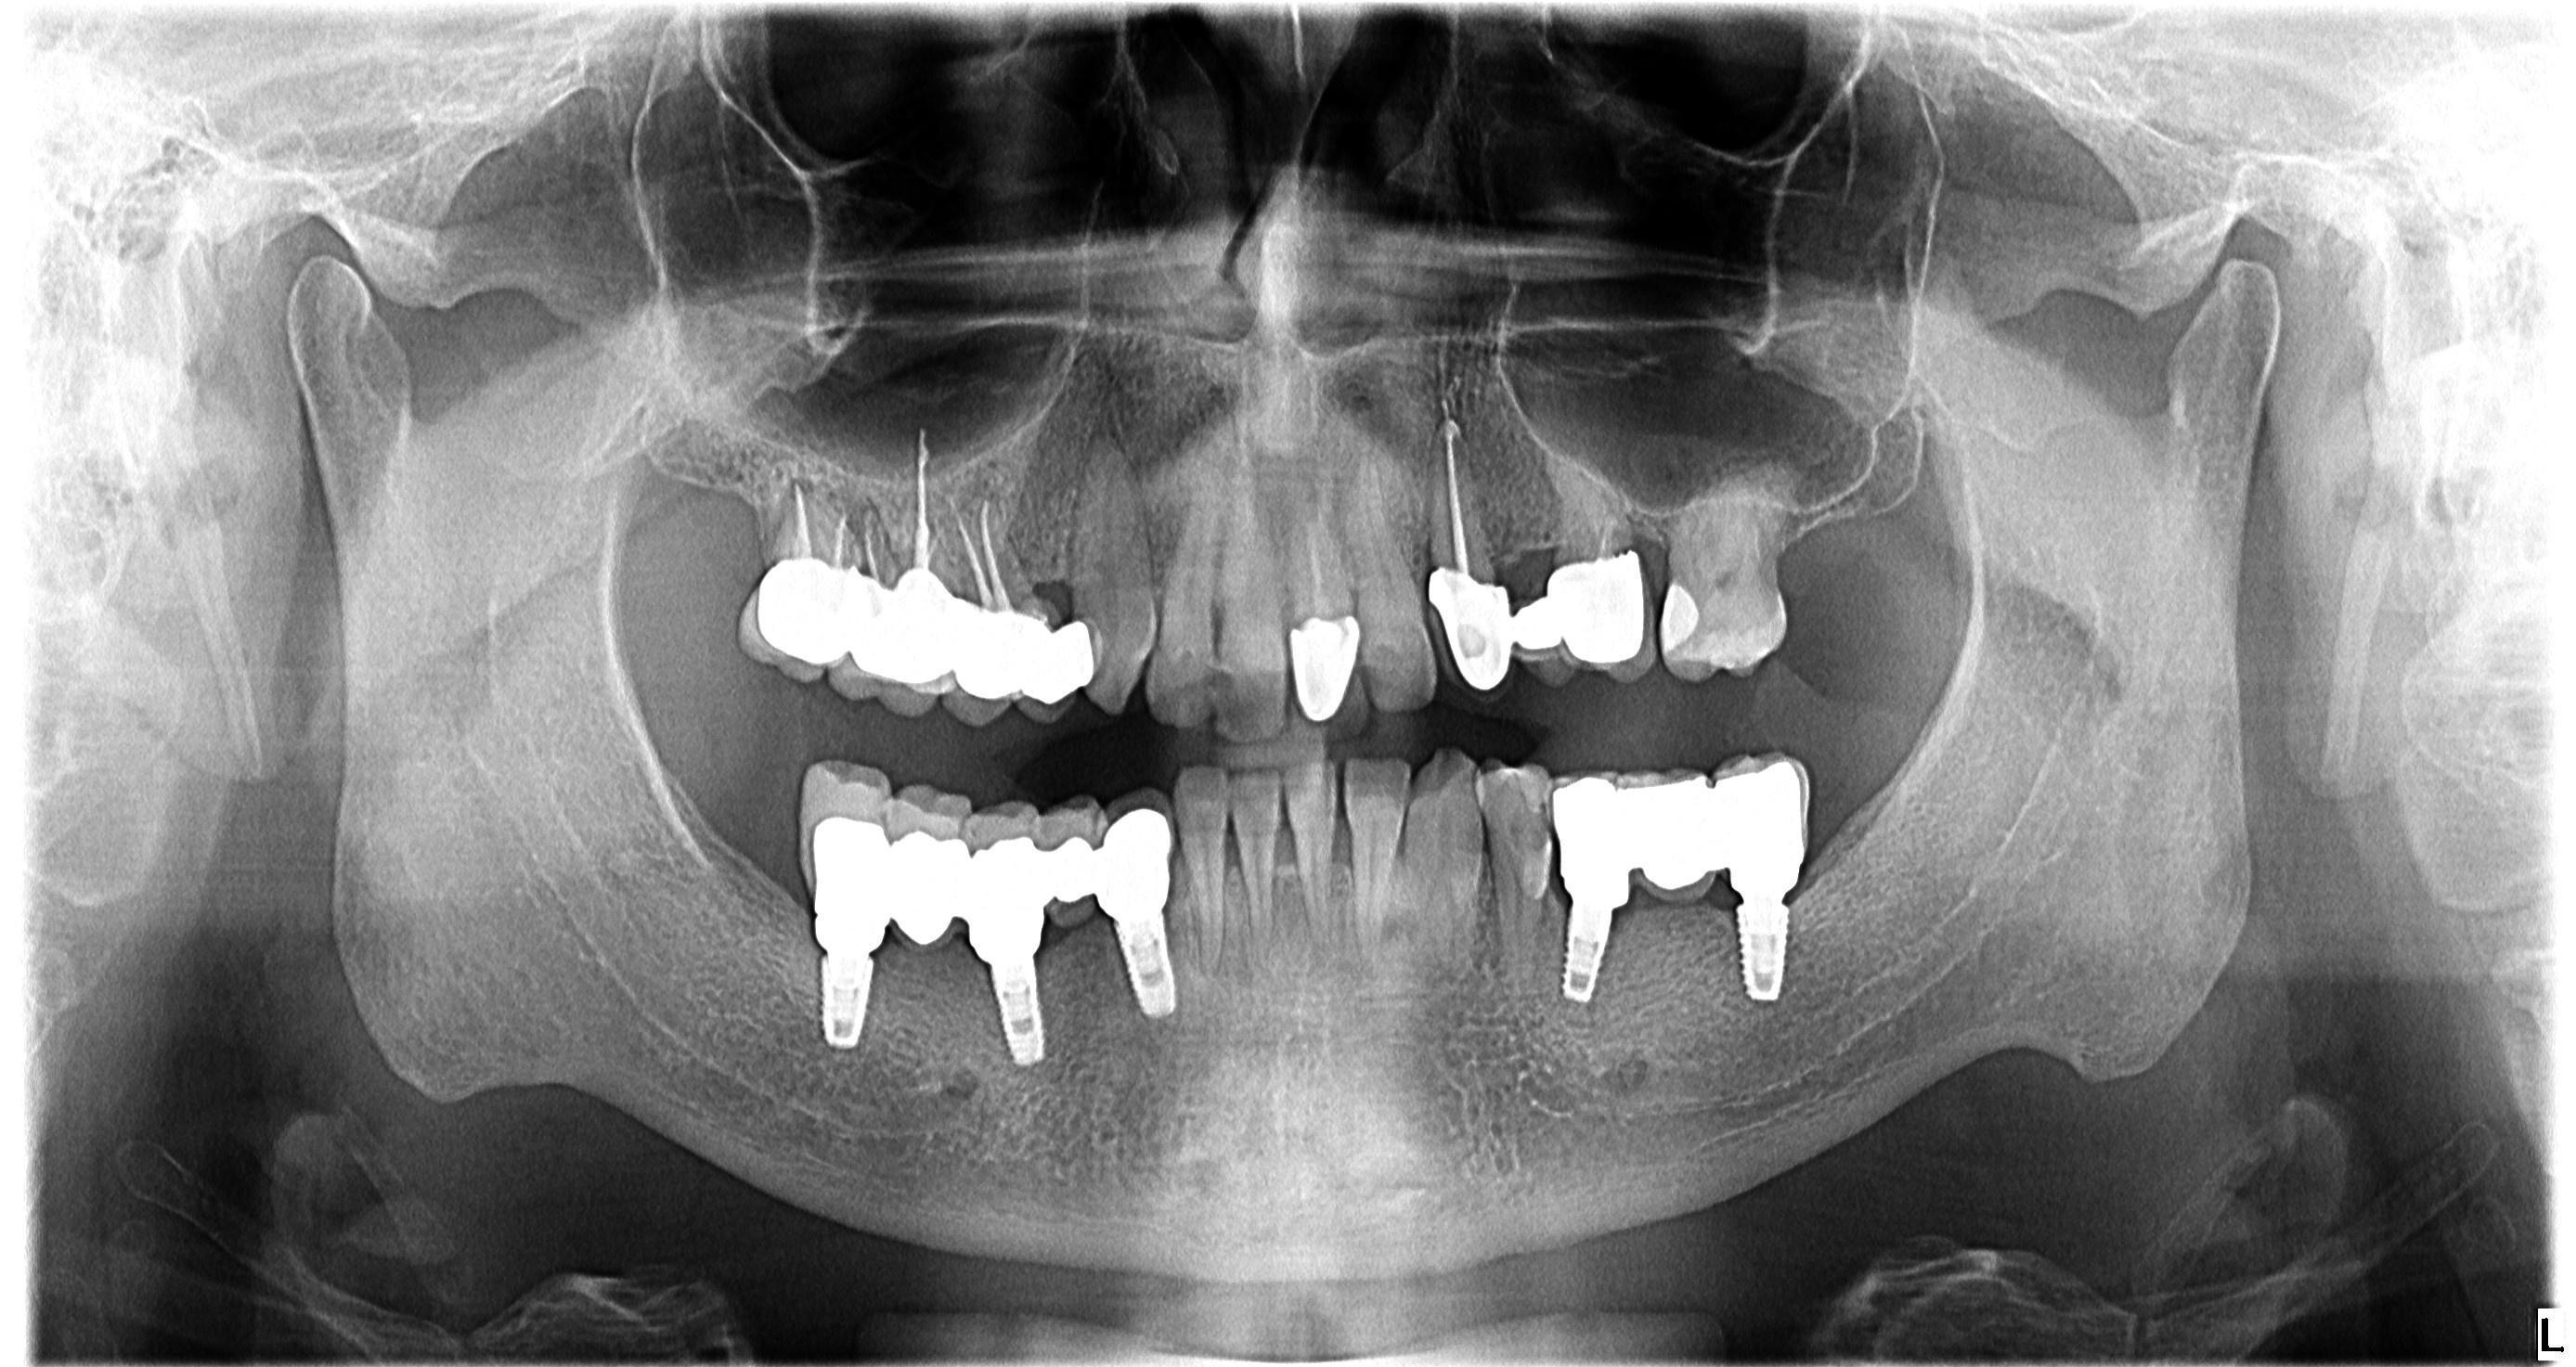CAR: (1501, 798, 1555, 846)
END: (772, 470, 852, 586), (1428, 417, 1470, 589), (956, 487, 1003, 621), (905, 420, 935, 577), (1295, 504, 1332, 621), (852, 499, 889, 584)
IMP: (971, 935, 1065, 1061), (1550, 895, 1620, 1025), (811, 923, 874, 1062), (1106, 911, 1189, 1015), (1728, 901, 1797, 1013)
OBT: (785, 766, 1172, 943), (748, 569, 1089, 710), (1557, 735, 1811, 907), (1426, 569, 1654, 684), (1288, 620, 1368, 729)
PRR: (1649, 579, 1705, 661), (1504, 851, 1559, 904)
